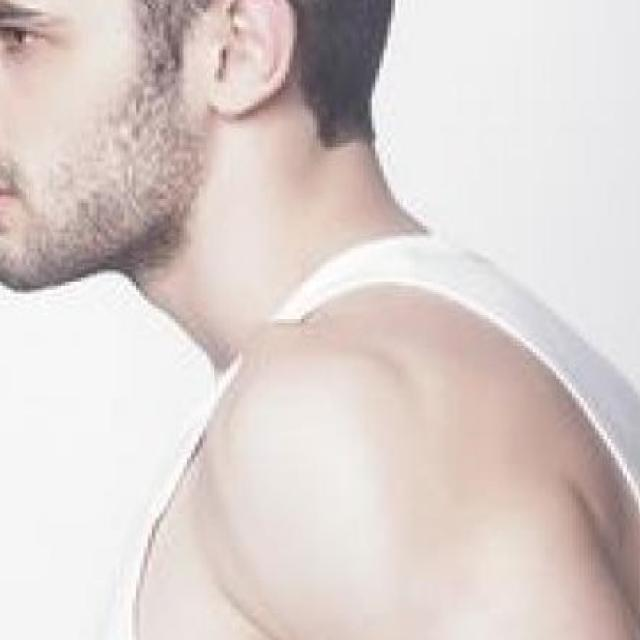Healthy: (151, 111, 410, 361)
